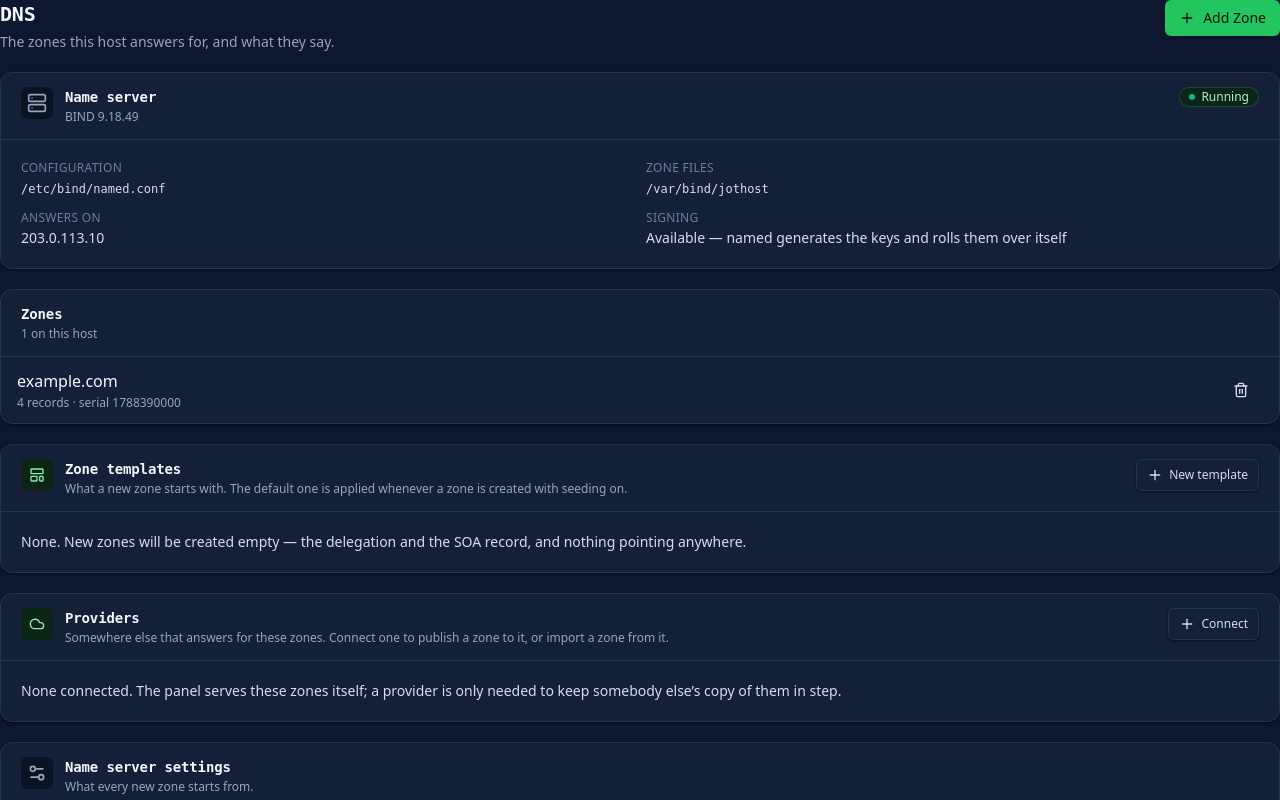
Test: DnsPage › warns before creating a zone when no name servers are set
Click the button "Add Zone" at [1223, 18], box [1165,0,1279,36]
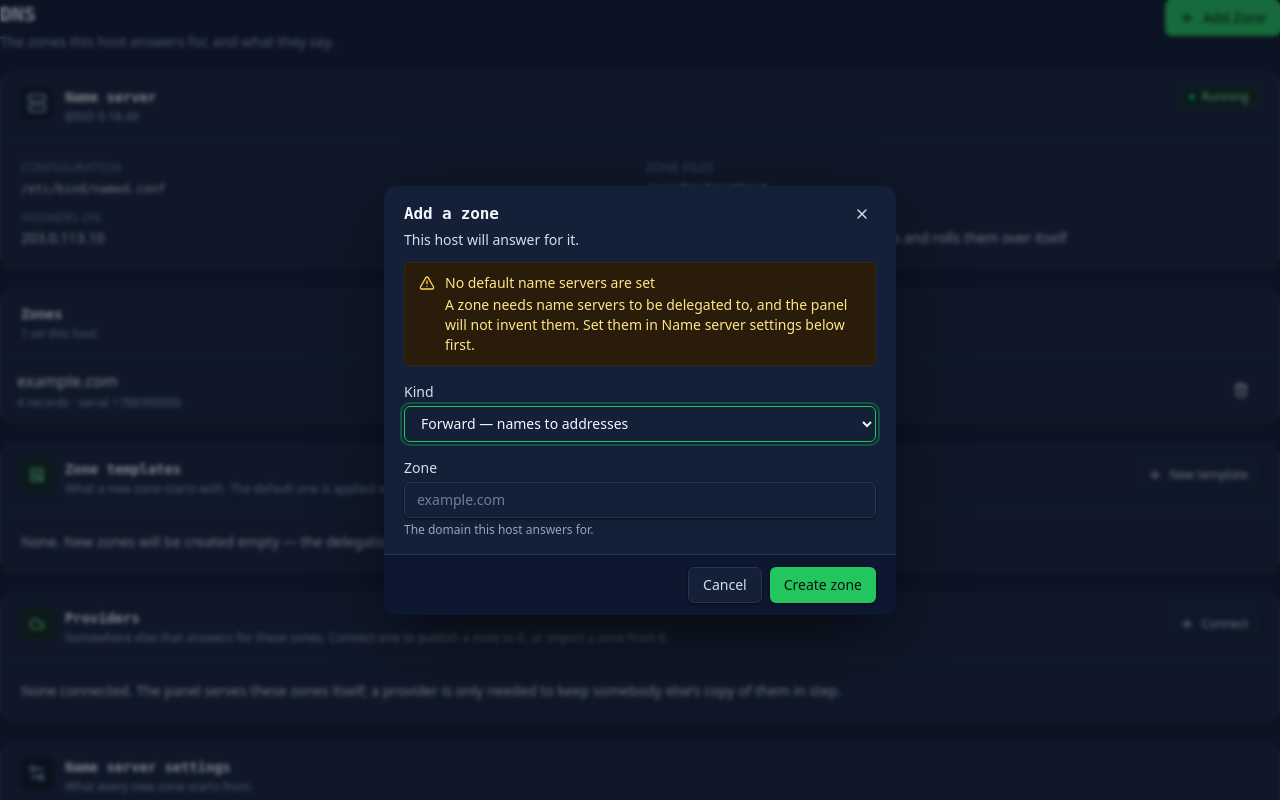
Result: the text "No default name servers are set" is shown at [445,272,655,292]
